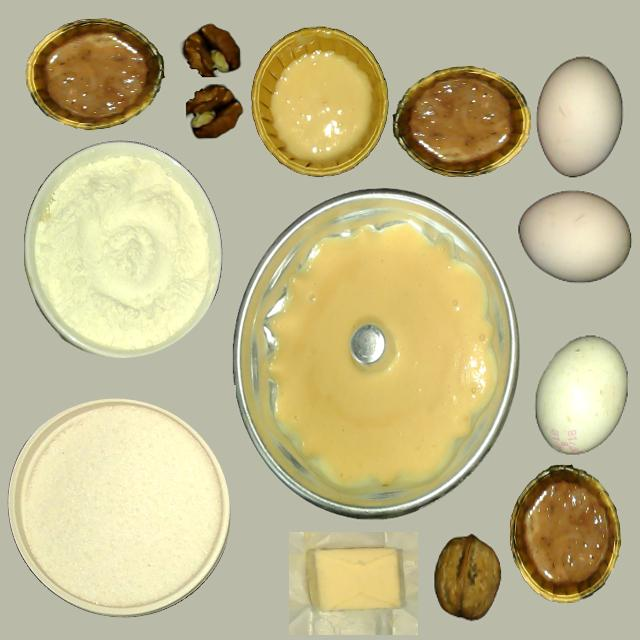Flour: (34, 156, 212, 350)
Sugar: (21, 404, 220, 609)
Walnut: (428, 528, 502, 626)
